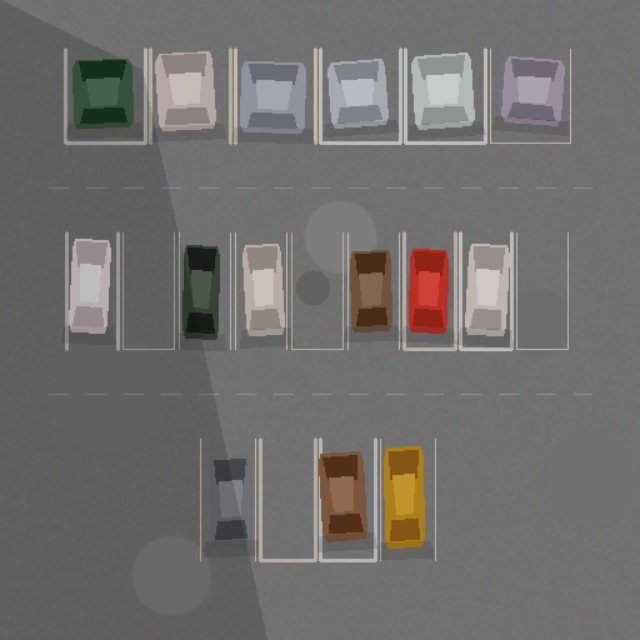space-empty: (260, 439, 315, 560), (122, 233, 174, 349), (516, 233, 568, 349), (291, 233, 342, 349)
space-occupied: (65, 49, 145, 142), (150, 49, 230, 142), (235, 49, 315, 142), (320, 49, 400, 142), (405, 49, 485, 142), (490, 49, 570, 142), (200, 439, 255, 560), (320, 439, 375, 560), (380, 439, 435, 560), (66, 233, 118, 349), (179, 233, 230, 349), (235, 233, 286, 349), (348, 233, 399, 349), (404, 233, 455, 349), (460, 233, 511, 349)
